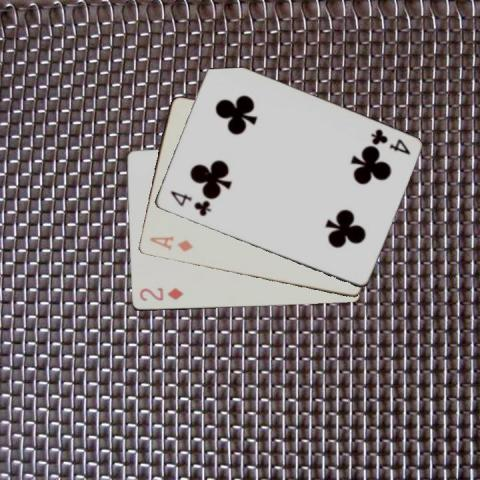2d: (136, 285, 184, 303)
4c: (167, 188, 212, 218), (368, 126, 411, 157)
Ad: (146, 234, 194, 254)
